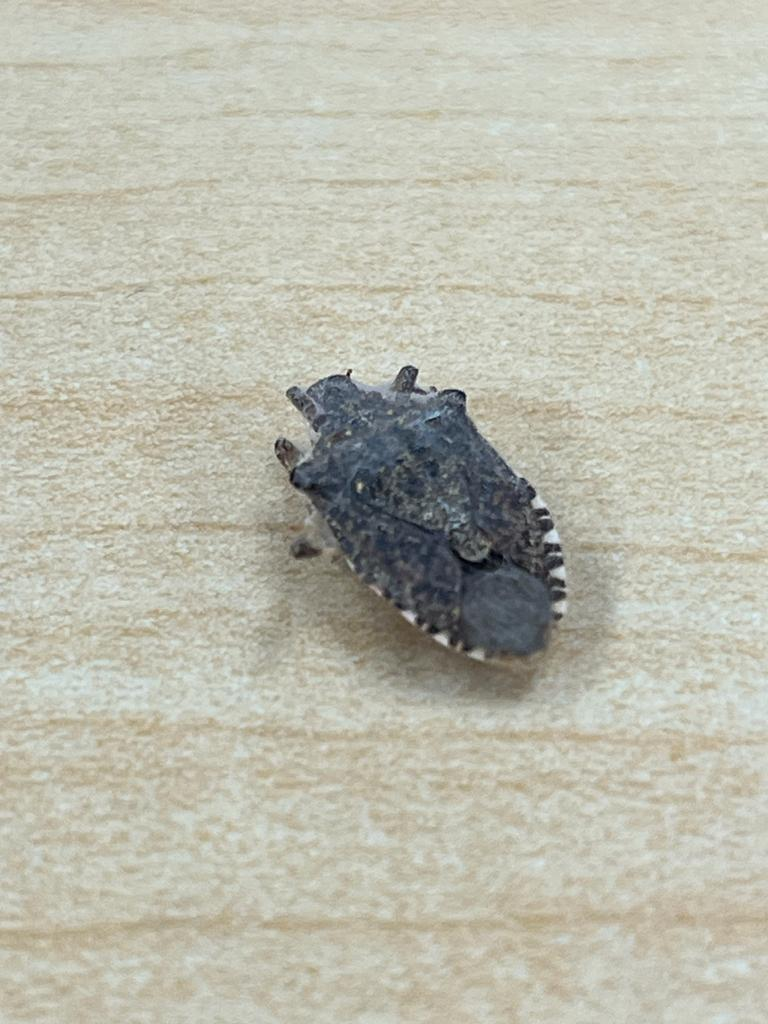stink_bugs: (234, 311, 600, 737)
